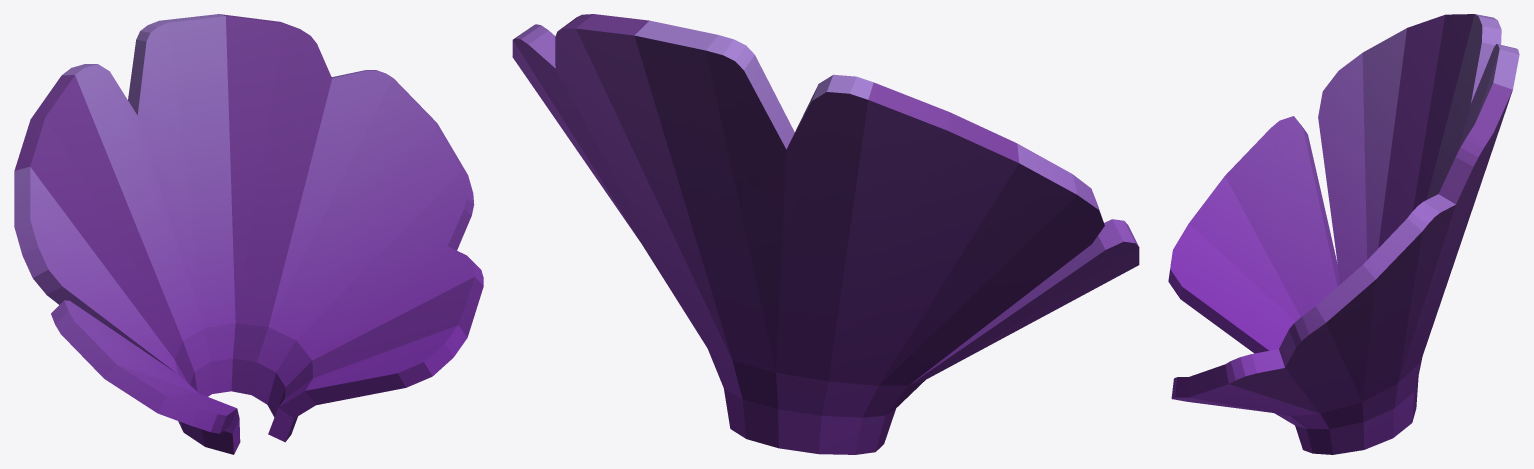
The model's file is coral_peafowl_pink_1.fbx.
3 views of the same model, side by side, from view 1: azimuth 30°, elevation 25°; view 2: azimuth 150°, elevation 25°; view 3: azimuth 270°, elevation 25° (orthographic). The views are drawn at different scales.
Parts seen in each view (by area): view 1: coral_peafowl_pink_1; view 2: coral_peafowl_pink_1; view 3: coral_peafowl_pink_1.
Part boxes in pixels (x1,y1,x2,y2): coral_peafowl_pink_1: (14, 14, 483, 454); coral_peafowl_pink_1: (512, 14, 1139, 454); coral_peafowl_pink_1: (1168, 14, 1519, 454).
Size of the model in its own units: 0.6746 by 0.533 by 0.4381.
